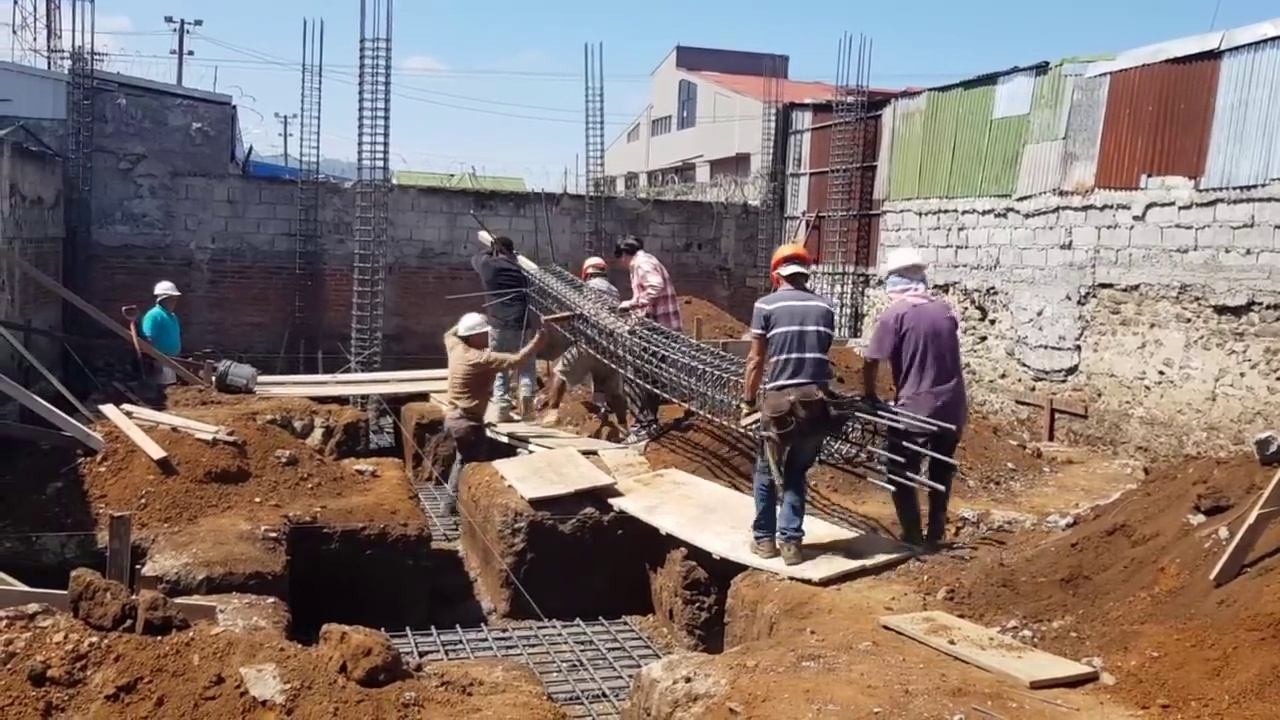helmet: (768, 240, 817, 286), (881, 247, 933, 279), (457, 311, 492, 339), (579, 255, 610, 278), (153, 281, 181, 302)
helmet-off: (612, 236, 650, 272), (490, 237, 516, 263)
helmet-on: (880, 247, 933, 301), (768, 240, 817, 295), (456, 311, 493, 352), (579, 254, 611, 289), (152, 281, 181, 314)
person: (749, 237, 845, 566), (861, 247, 960, 562), (439, 310, 541, 500), (608, 231, 700, 426), (540, 254, 612, 457), (474, 236, 539, 454), (139, 281, 182, 387)
